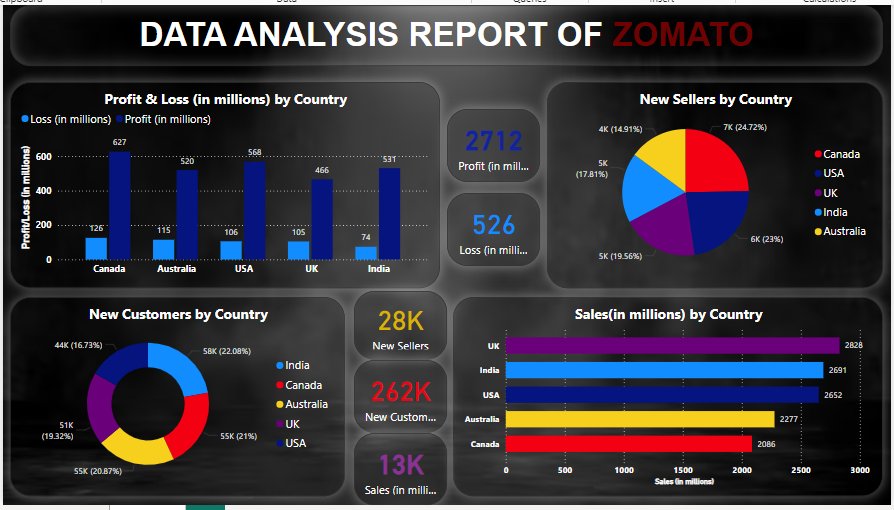

The page's visual inventory and layout, read from the dashboard file:
{"tool":"powerbi","page":{"name":"Page 1","canvas":[1280,720],"ordinal":0},"visuals":[{"type":"textbox","box":[10.1,0,1257.1,87.8],"z":0},{"type":"clusteredColumnChart","title":"Profit & Loss (in millions) by Country","fields":{"Category":["Sheet1.Country"],"Y":["Sum(Sheet1.Loss (in millions))","Sum(Sheet1.Profit (in millions))"]},"box":[10.1,110.9,619.2,296.6],"z":1000},{"type":"donutChart","title":"New Customers by Country","fields":{"Category":["Sheet1.Country"],"Y":["Sum(Sheet1.New Customers)"]},"box":[10.1,420.5,482.4,286.6],"z":2000},{"type":"barChart","title":"Sales(in millions) by Country","fields":{"Category":["Sheet1.Country"],"Y":["Sum(Sheet1.Sales (in millions))"]},"box":[648,420.5,619.2,286.6],"z":3000},{"type":"pieChart","title":"New Sellers by Country","fields":{"Category":["Sheet1.Country"],"Y":["Sum(Sheet1.New Sellers)"]},"box":[783.4,110.9,483.8,296.6],"z":4000},{"type":"card","fields":{"Values":["Sum(Sheet1.Profit (in millions))"]},"box":[639.4,149.8,133.9,105.1],"z":5000},{"type":"card","fields":{"Values":["Sum(Sheet1.Loss (in millions))"]},"box":[639.4,270.7,133.9,105.1],"z":6000},{"type":"card","fields":{"Values":["Sum(Sheet1.New Sellers)"]},"box":[505.4,411.8,133.9,99.4],"z":7000},{"type":"card","fields":{"Values":["Sum(Sheet1.New Customers)"]},"box":[505.4,511.2,133.9,105.1],"z":8000},{"type":"card","fields":{"Values":["Sum(Sheet1.Sales (in millions))"]},"box":[505.4,616.3,133.9,103.7],"z":9000}]}

Visuals, with their boxes on the page's 1280x720 design canvas (x1, y1, x2, y2). These are canvas units, not pixel positions in the 894x510 screenshot, which may show the page scaled, cropped or inside an application window:
textbox: <bbox>10, 0, 1267, 88</bbox>
"Profit & Loss (in millions) by Country" clusteredColumnChart: <bbox>10, 111, 629, 408</bbox>
"New Customers by Country" donutChart: <bbox>10, 420, 492, 707</bbox>
"Sales(in millions) by Country" barChart: <bbox>648, 420, 1267, 707</bbox>
"New Sellers by Country" pieChart: <bbox>783, 111, 1267, 408</bbox>
card - Sum(Sheet1.Profit (in millions)): <bbox>639, 150, 773, 255</bbox>
card - Sum(Sheet1.Loss (in millions)): <bbox>639, 271, 773, 376</bbox>
card - Sum(Sheet1.New Sellers): <bbox>505, 412, 639, 511</bbox>
card - Sum(Sheet1.New Customers): <bbox>505, 511, 639, 616</bbox>
card - Sum(Sheet1.Sales (in millions)): <bbox>505, 616, 639, 720</bbox>
